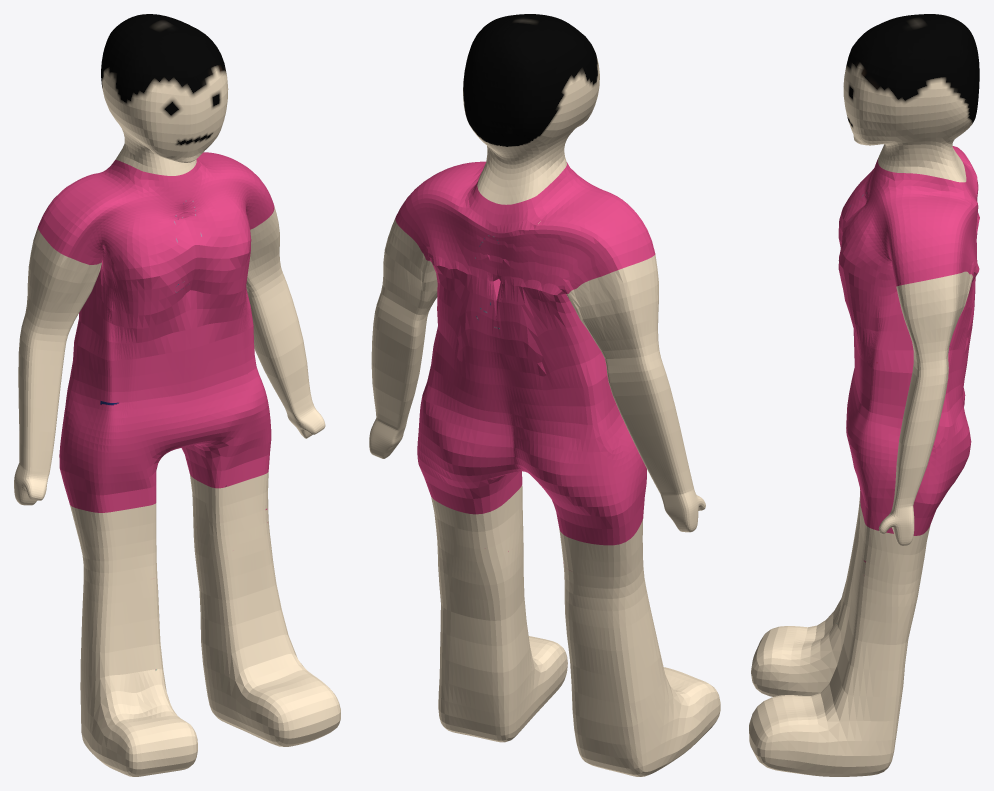
The model's file is Nina.obj.
The picture shows the model from 3 angles, left to right: view 1: azimuth 30°, elevation 25°; view 2: azimuth 150°, elevation 25°; view 3: azimuth 270°, elevation 25°; orthographic projection. The views are drawn at different scales.
Parts seen in each view (by area): view 1: Nina; view 2: Nina; view 3: Nina.
Boxes of the visible parts, x1,y1,x2,y2 form: Nina: [14, 14, 340, 776]; Nina: [369, 14, 720, 776]; Nina: [749, 14, 979, 776].
Bounding box in the file's own units: 0.4729 × 1.05 × 0.3094.
1 material, 1 textured.
